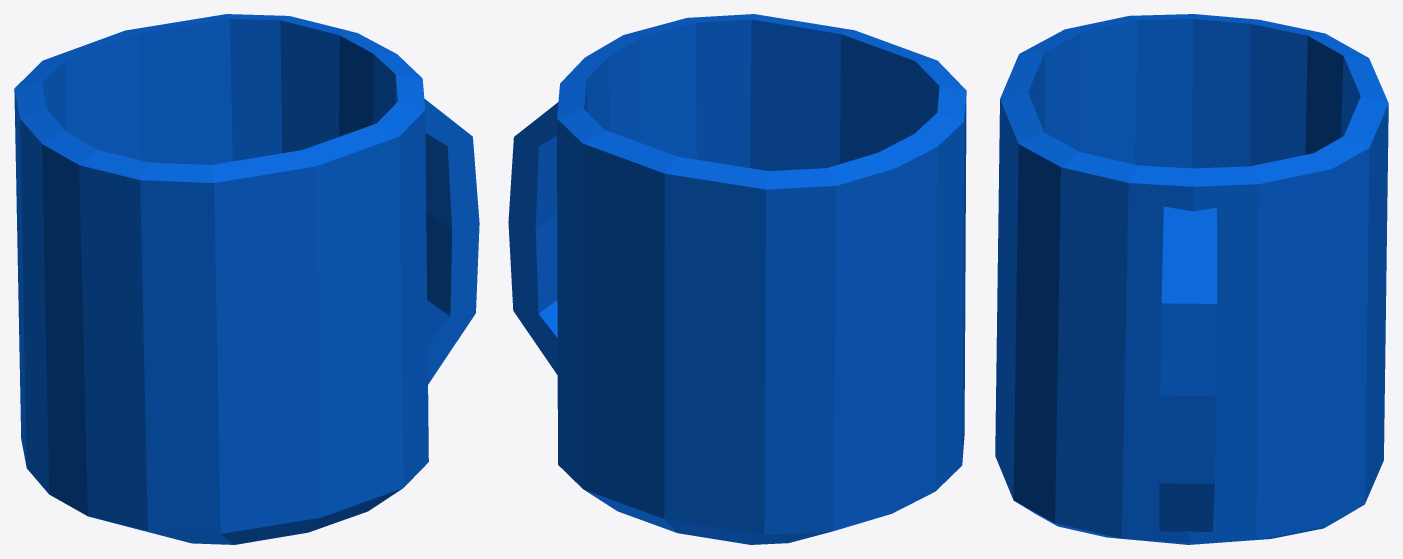
File: glass.fbx
3 renders of one model, left to right at view 1: azimuth 30°, elevation 25°; view 2: azimuth 150°, elevation 25°; view 3: azimuth 270°, elevation 25°, orthographic. The views are drawn at different scales.
Parts seen in each view (by area): view 1: Cube; view 2: Cube; view 3: Cube.
Part boxes in pixels (box(x1,y1,x2,y2)): Cube: box(14, 14, 479, 544); Cube: box(508, 14, 966, 544); Cube: box(995, 14, 1388, 544).
Size of the model in its own units: 218 by 191 by 174.
